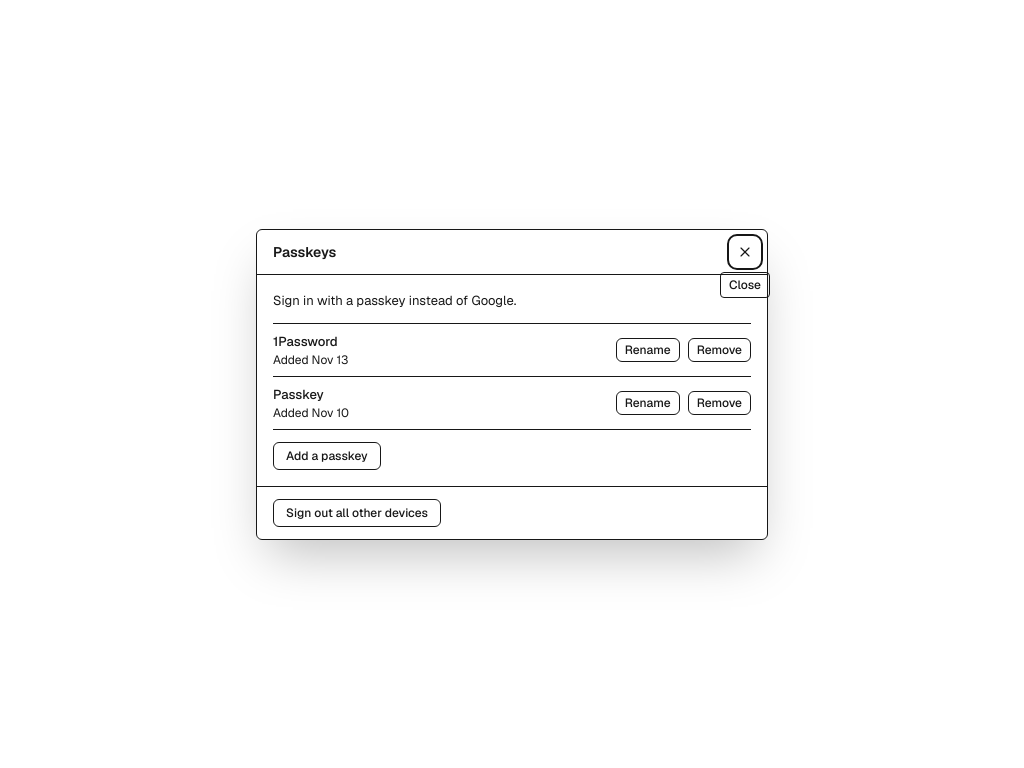
Test case: adding a passkey › any other failure says the passkey wasn't added
Later steps or results of the test are not shown.
Click the button "Add a passkey".
click(327, 456)  # box [273, 442, 381, 470]
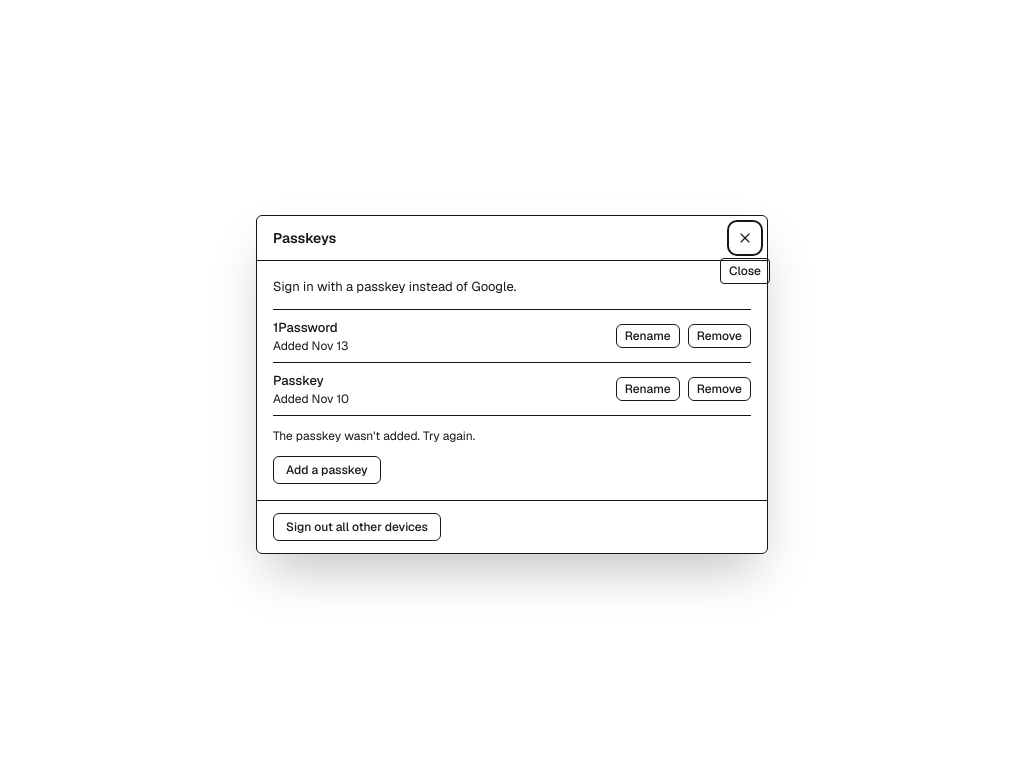
Now the message reads "The passkey wasn't added. Try again.", box [273, 428, 475, 444]
